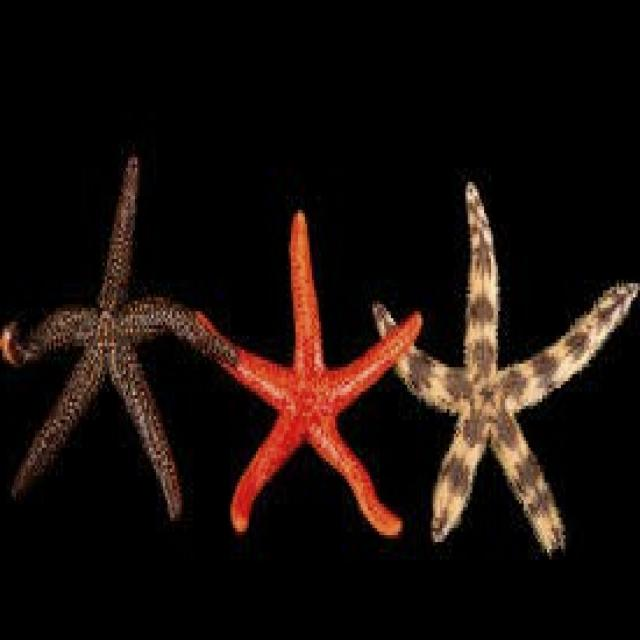starfish: (398, 182, 640, 549), (2, 157, 235, 518), (233, 210, 424, 535)
